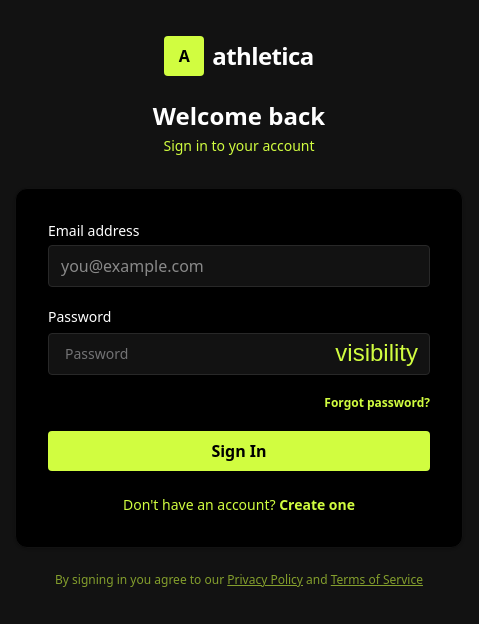
Test: LoginForm › validation — submitting empty form › should show an email validation error when submitted with empty email
This screenshot has width=479, height=624.
Click the button "Sign In": (239, 451) [48,431,430,471]
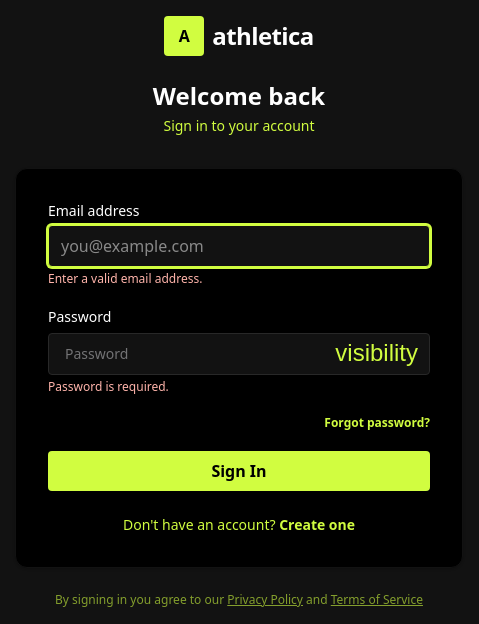
Now the text "Enter a valid email address." is shown, box [48,270,202,287]
